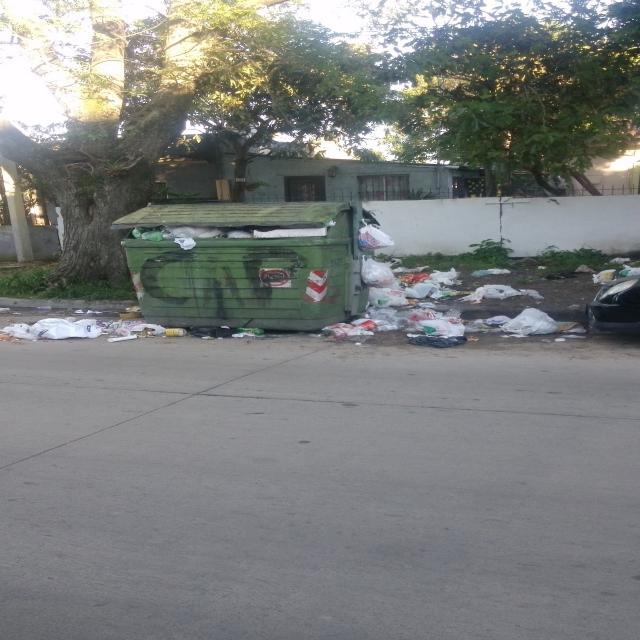garbage: (356, 252, 468, 356), (115, 219, 336, 251), (2, 312, 185, 341), (472, 308, 570, 340), (187, 318, 278, 344), (308, 316, 397, 342), (574, 252, 640, 286), (464, 276, 536, 302), (347, 217, 398, 252)
